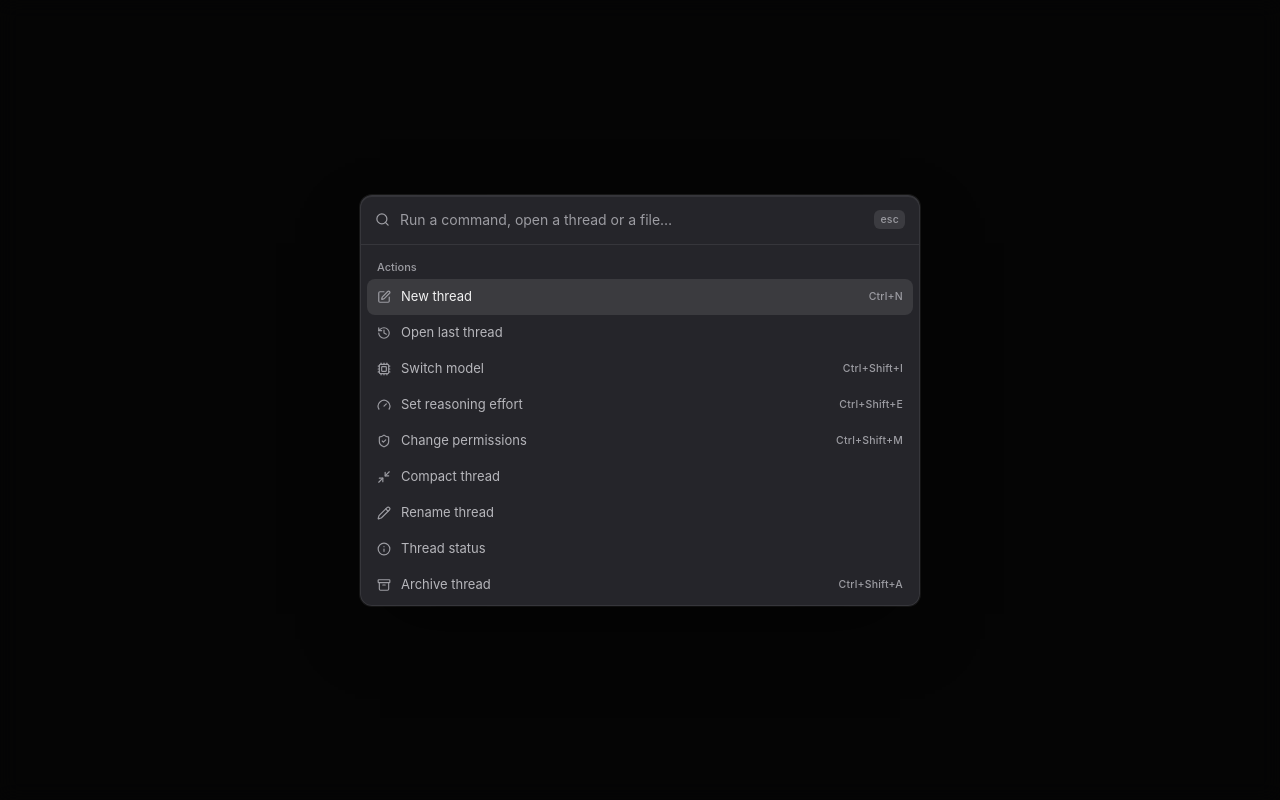
Test: CommandPalette › groups commands into sections and keeps files and other workspaces for a search
The image size is (1280, 800).
Later steps or results of the test are not shown.
expect the option "Billing export" is not shown: met
In the dropdown named "Filter commands": (632, 220) [400,196,864,244], type "billing"
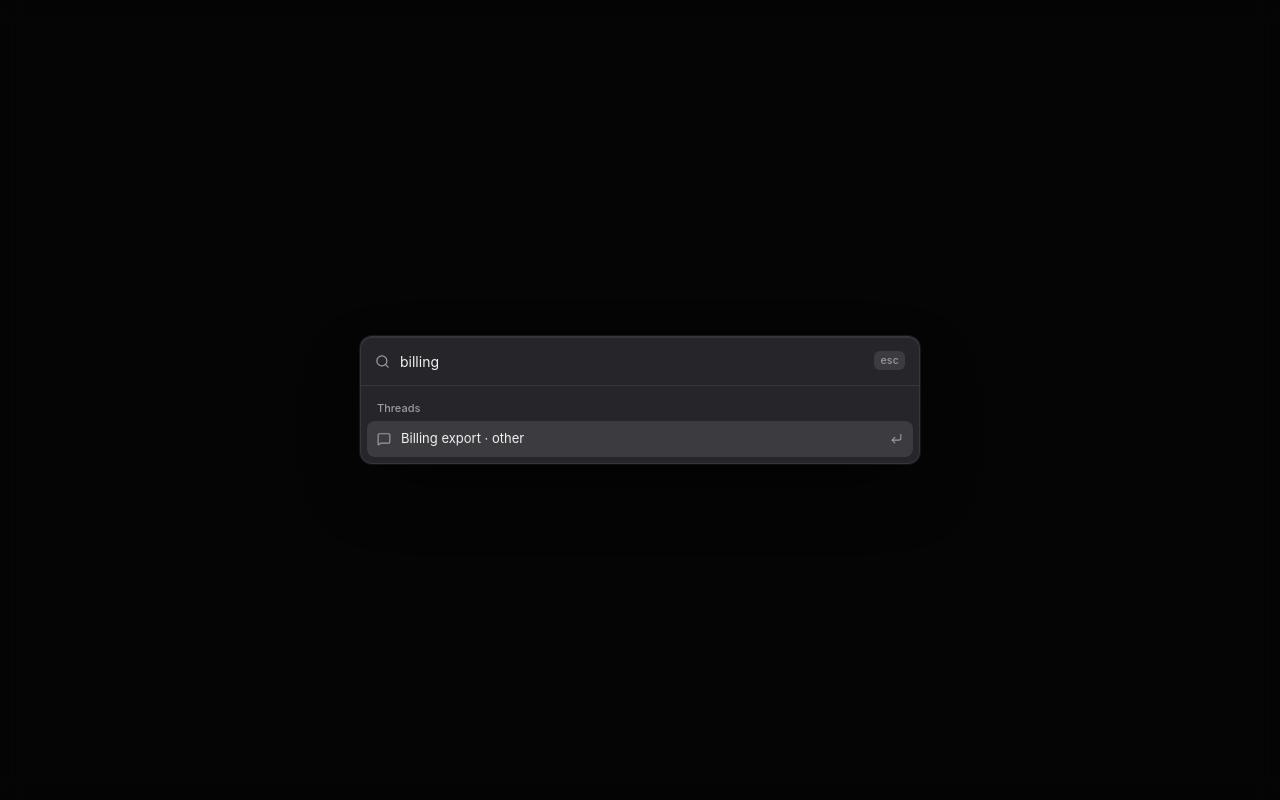
expect the option "Billing export · other" is shown: met, box [367,421,913,457]
